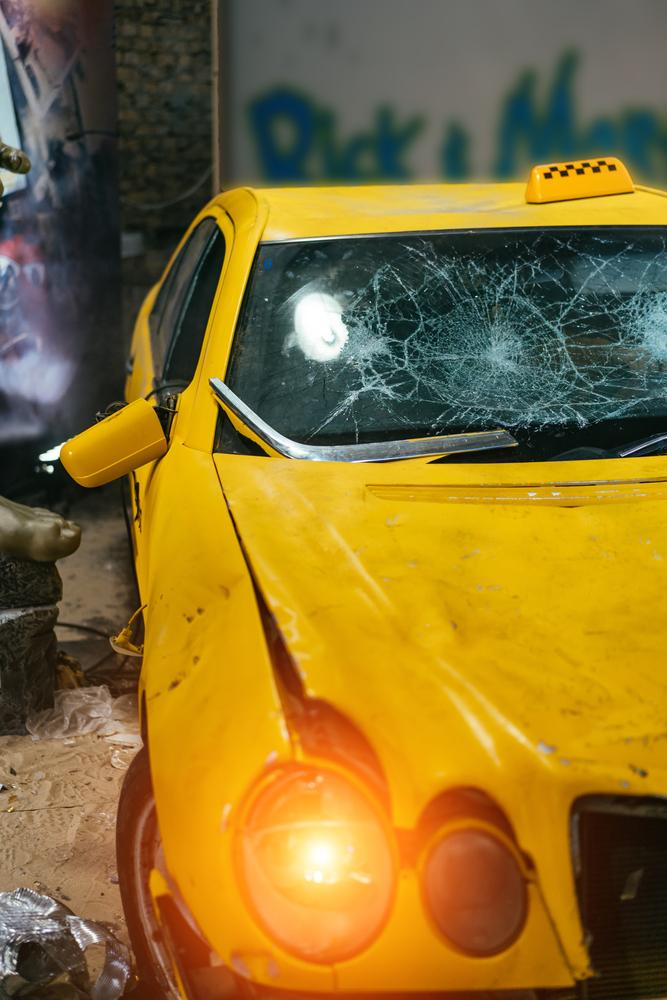glass shatter: (225, 227, 667, 447)
